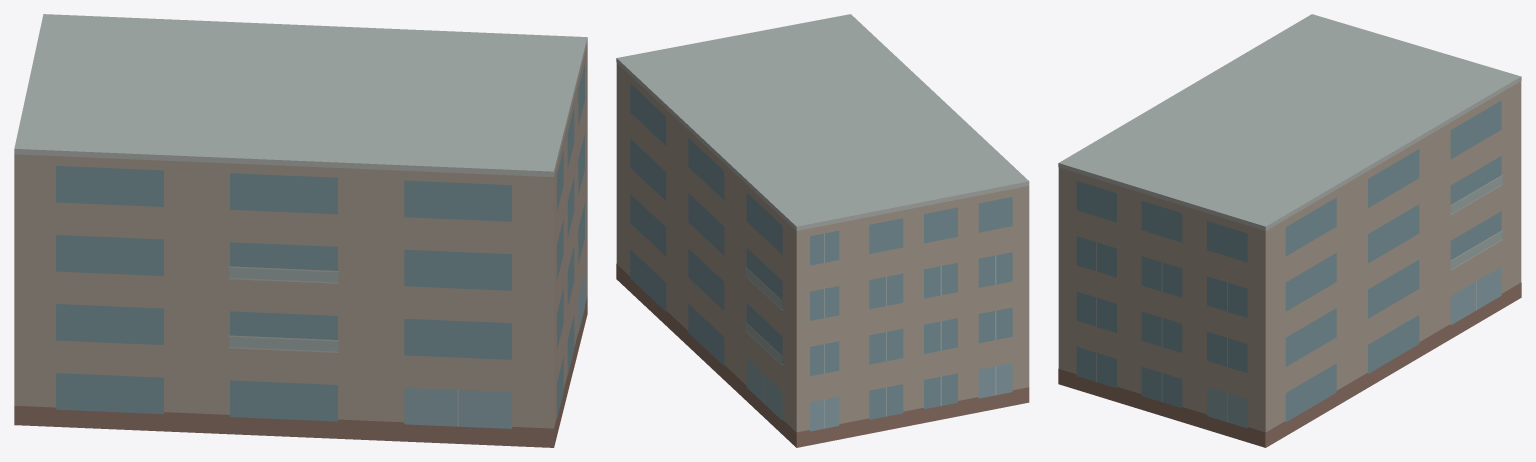
File: survey-upis-32962489.glb
The picture shows the model from 3 angles, left to right: view 1: azimuth 30°, elevation 25°; view 2: azimuth 150°, elevation 25°; view 3: azimuth 270°, elevation 25°; orthographic projection. The views are drawn at different scales.
Visible parts, largest first — view 1: survey-upis-32962489.tmp; view 2: survey-upis-32962489.tmp; view 3: survey-upis-32962489.tmp.
Boxes of the visible parts, x1,y1,x2,y2 form: survey-upis-32962489.tmp: [14, 14, 587, 447]; survey-upis-32962489.tmp: [616, 14, 1029, 447]; survey-upis-32962489.tmp: [1058, 14, 1521, 447].
Size of the model in its own units: 25.17 by 12.2 by 23.15.
